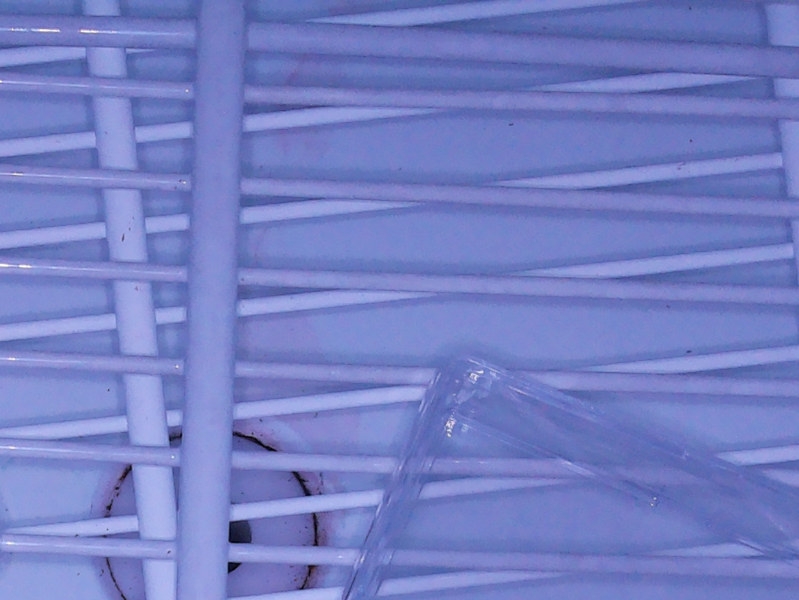plate: (321, 350, 799, 600)
